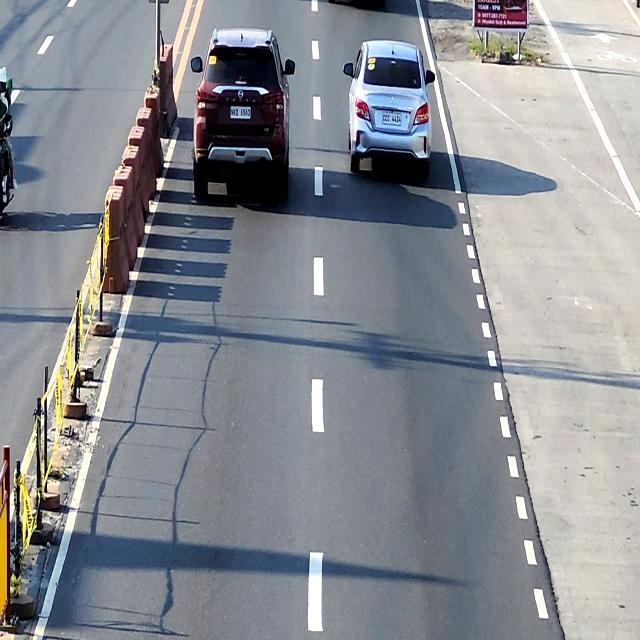Car: (191, 28, 295, 204), (344, 40, 435, 182)
License-Plate: (382, 111, 402, 125), (230, 107, 251, 119)
